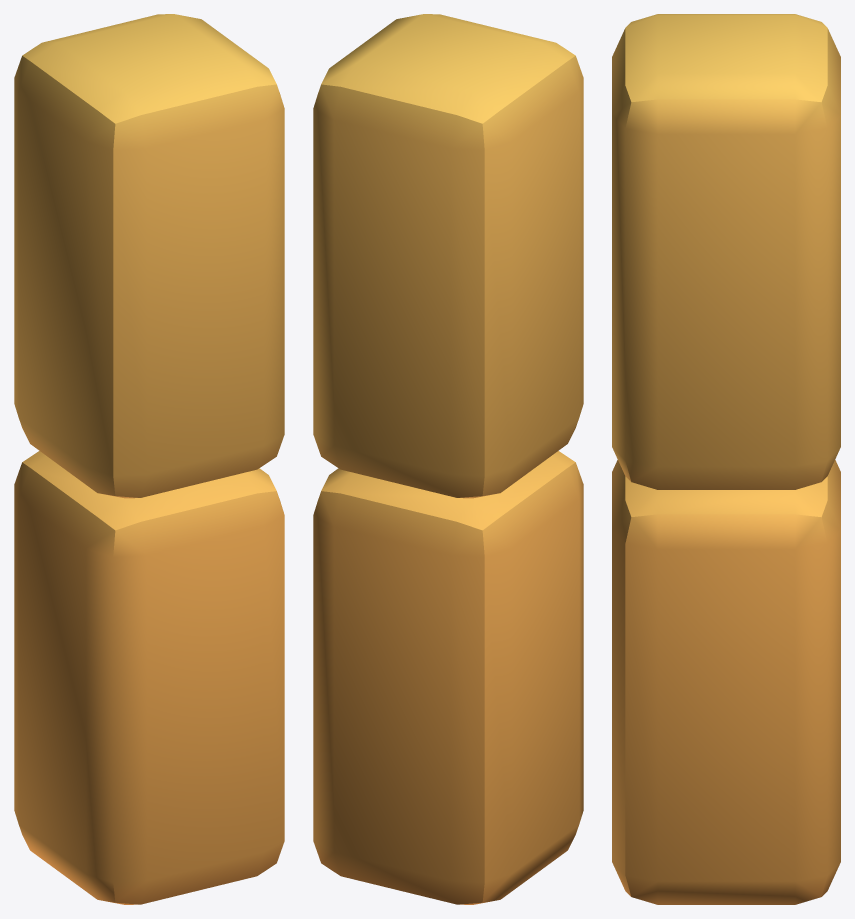
File: barrier_1x1x4_yellow.glb
3 views of the same model, side by side, from view 1: azimuth 30°, elevation 25°; view 2: azimuth 150°, elevation 25°; view 3: azimuth 270°, elevation 25° (orthographic). The views are drawn at different scales.
Visible parts, largest first — view 1: barrier_1x1x4_yellow; view 2: barrier_1x1x4_yellow; view 3: barrier_1x1x4_yellow.
Part boxes in pixels (x1,y1,x2,y2): barrier_1x1x4_yellow: (14,14,284,904); barrier_1x1x4_yellow: (313,14,583,904); barrier_1x1x4_yellow: (612,14,840,904).
Size of the model in its own units: 1 by 4 by 1.
Materials: 1 (1 with a texture image).
